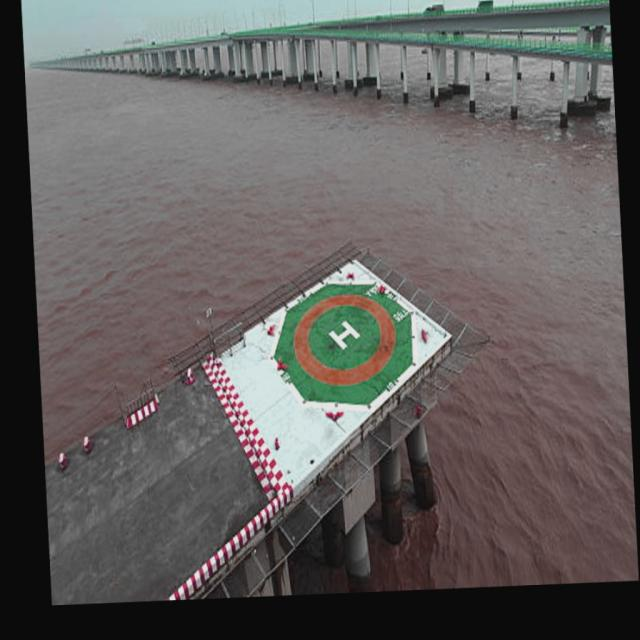helipad: (290, 292, 398, 386)
